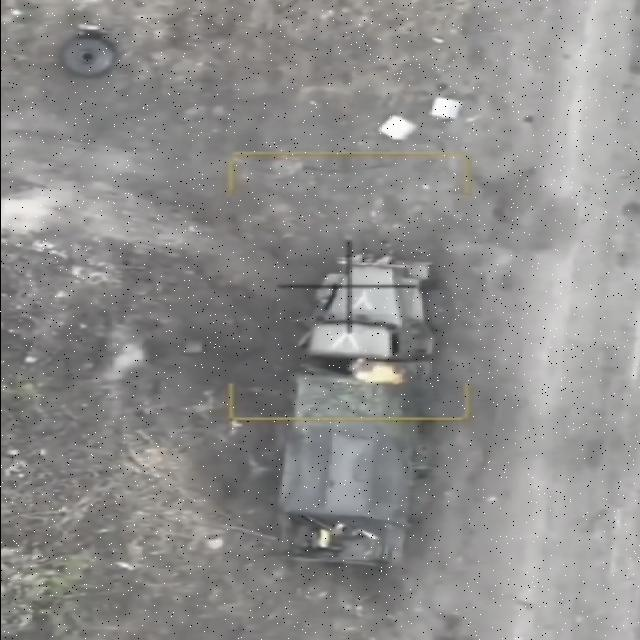TRUCK: (266, 244, 444, 568)
